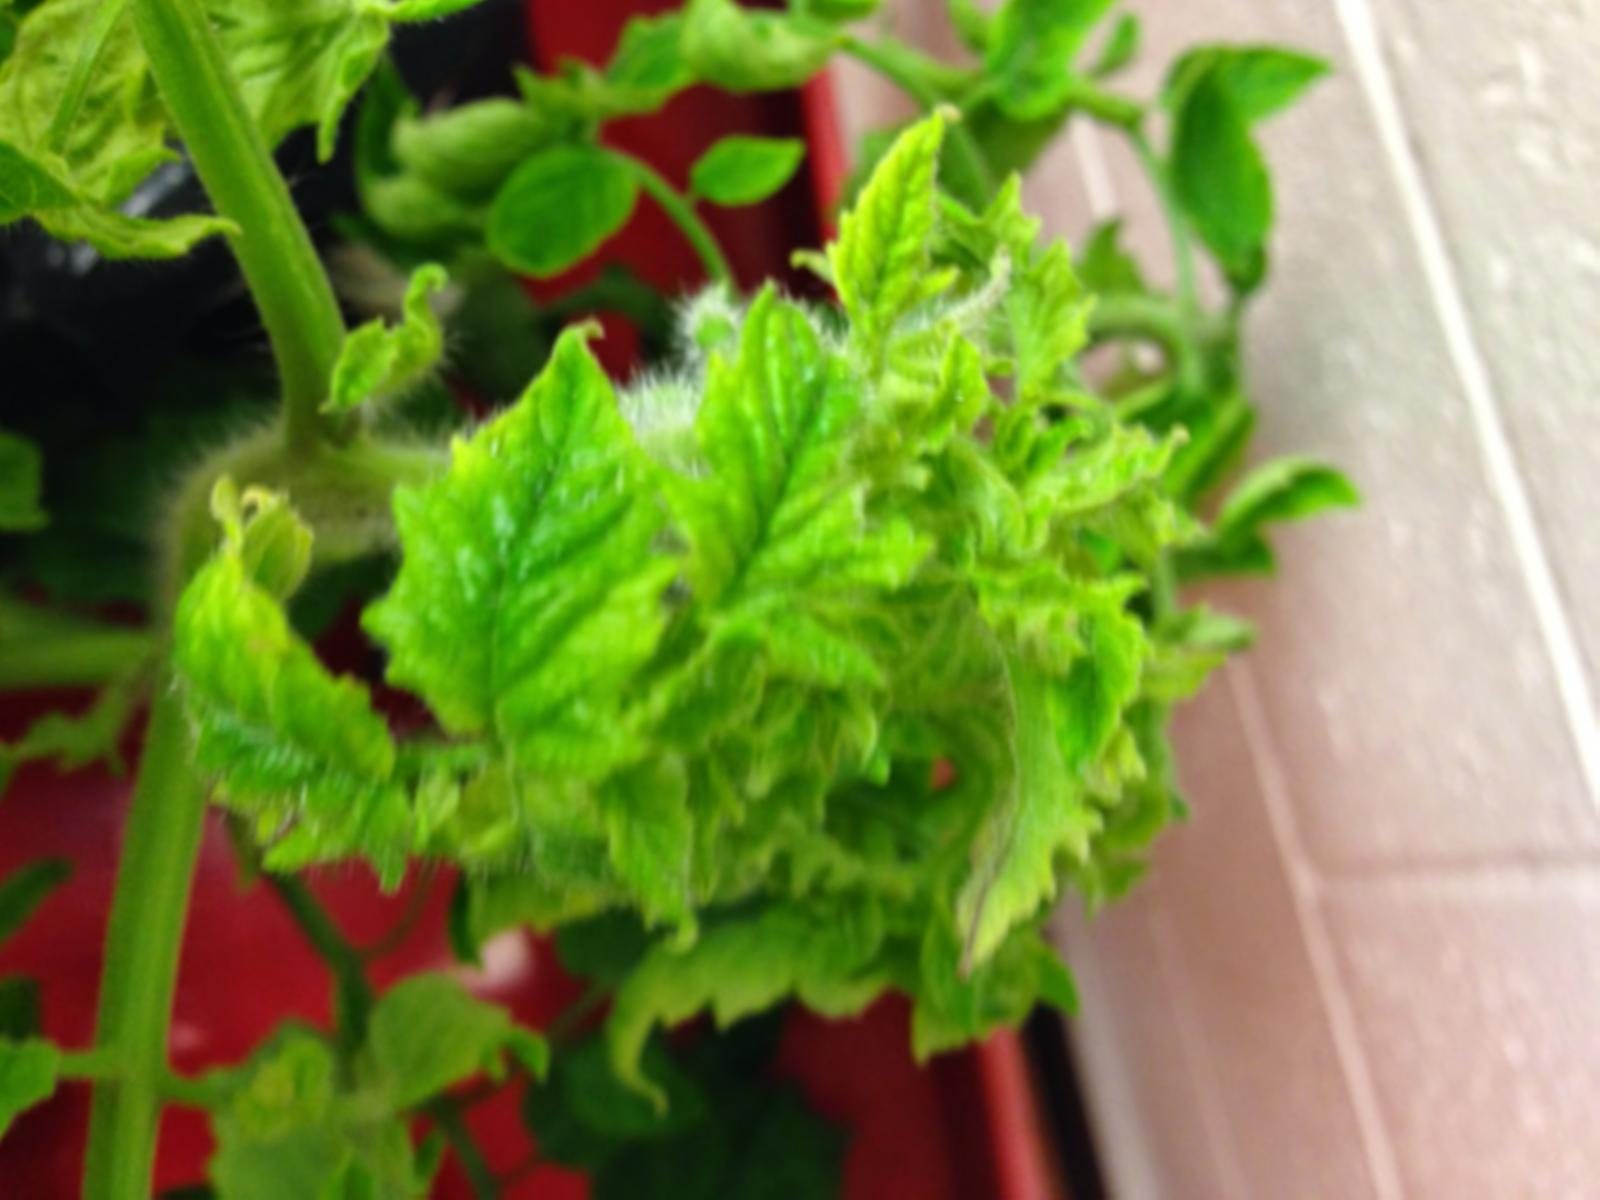Tomato leaf yellow virus: (351, 308, 650, 823), (669, 224, 879, 718), (171, 444, 399, 887)
